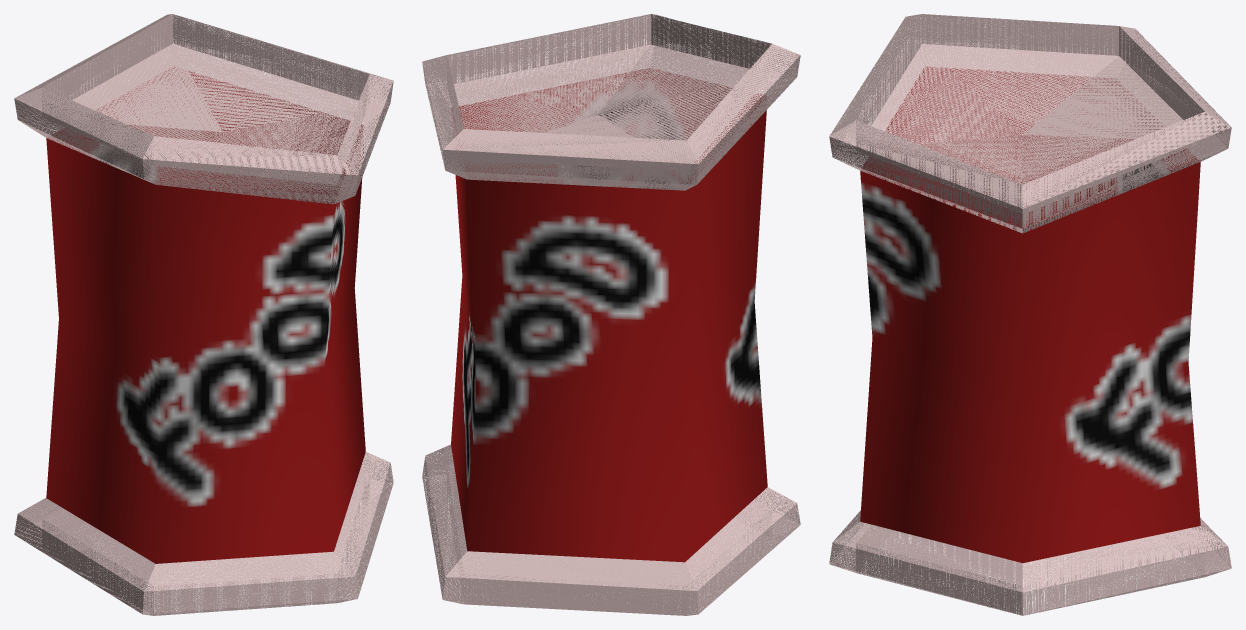
The model's file is MDL_FoodCan.FBX.
The picture shows the model from 3 angles, left to right: view 1: azimuth 30°, elevation 25°; view 2: azimuth 150°, elevation 25°; view 3: azimuth 270°, elevation 25°; orthographic projection. The views are drawn at different scales.
Visible parts, largest first — view 1: Cylinder004; view 2: Cylinder004; view 3: Cylinder004.
Part boxes in pixels (bbox=[...]): Cylinder004: bbox=[14, 14, 393, 615]; Cylinder004: bbox=[422, 14, 800, 615]; Cylinder004: bbox=[829, 14, 1231, 615].
Bounding box in the file's own units: 11.21 × 15.88 × 11.95.
